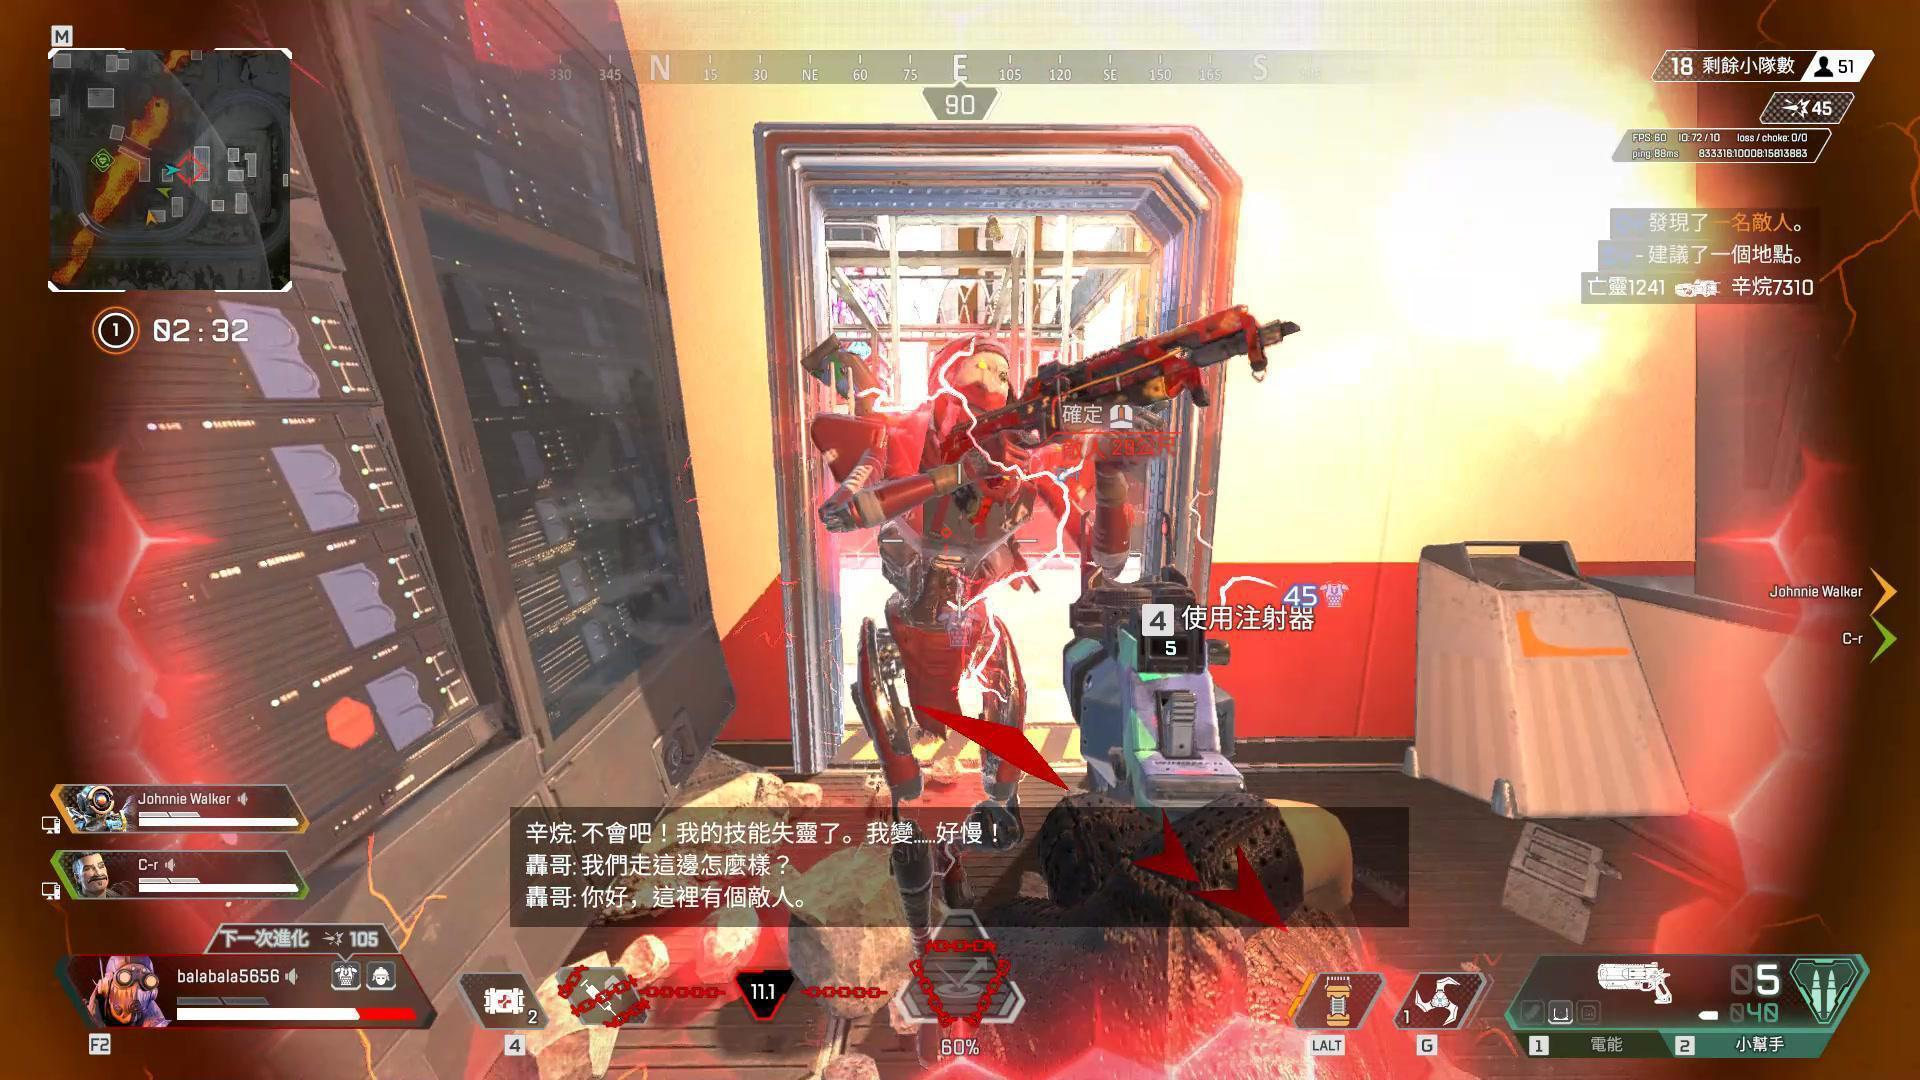avatar: (798, 333, 1034, 973)
